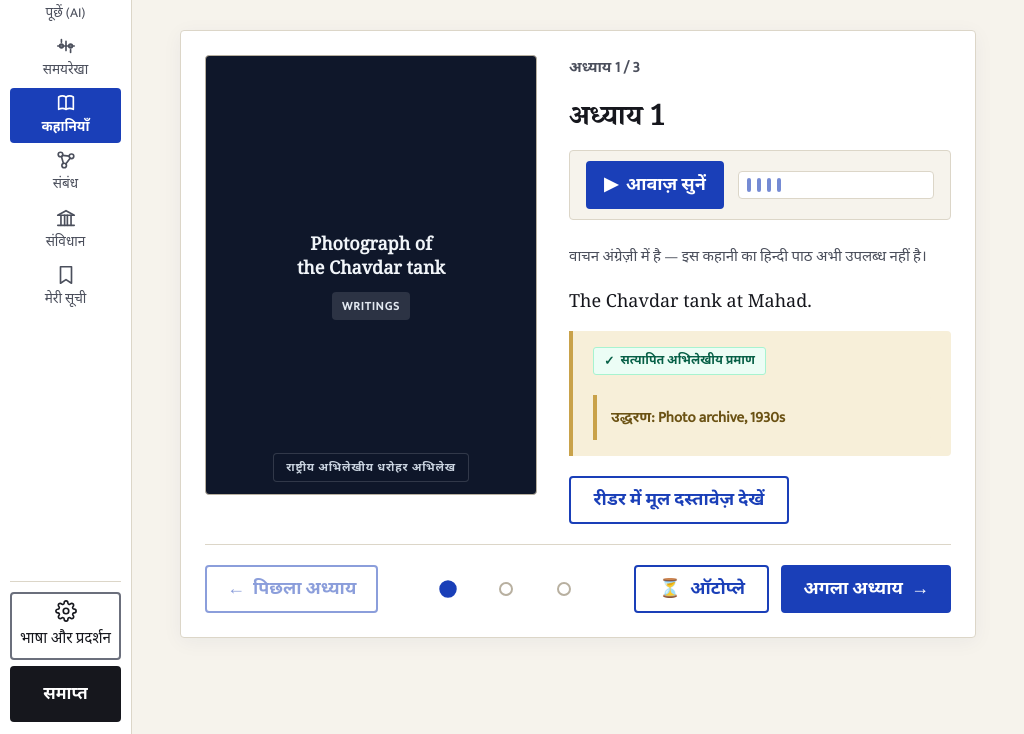
stories › uses the English title when the chapter has none in the visitor's language
This screenshot has width=1024, height=734.
(page scrolled)
What coordinates should you click on to do the following:
click the 2nd button with class "chapter-dot"
I would click on:
 (506, 589)
Its box is [482, 565, 530, 613].
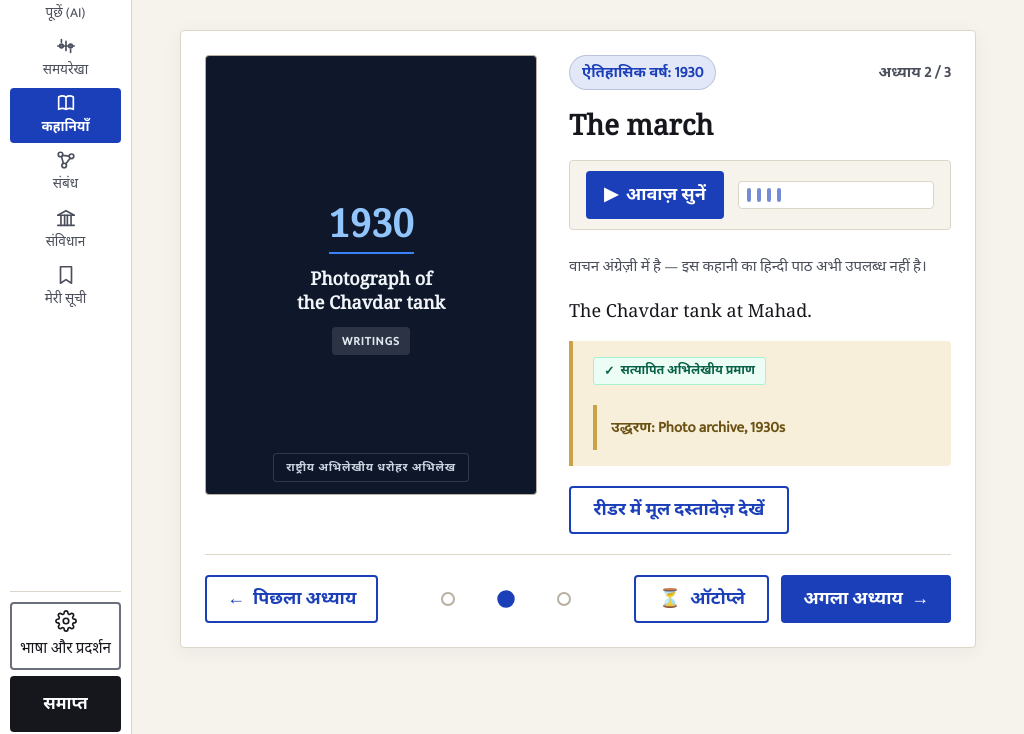
Expected: the heading with class "exhibition-chapter-title" reads "The march", [569, 105, 713, 143]
